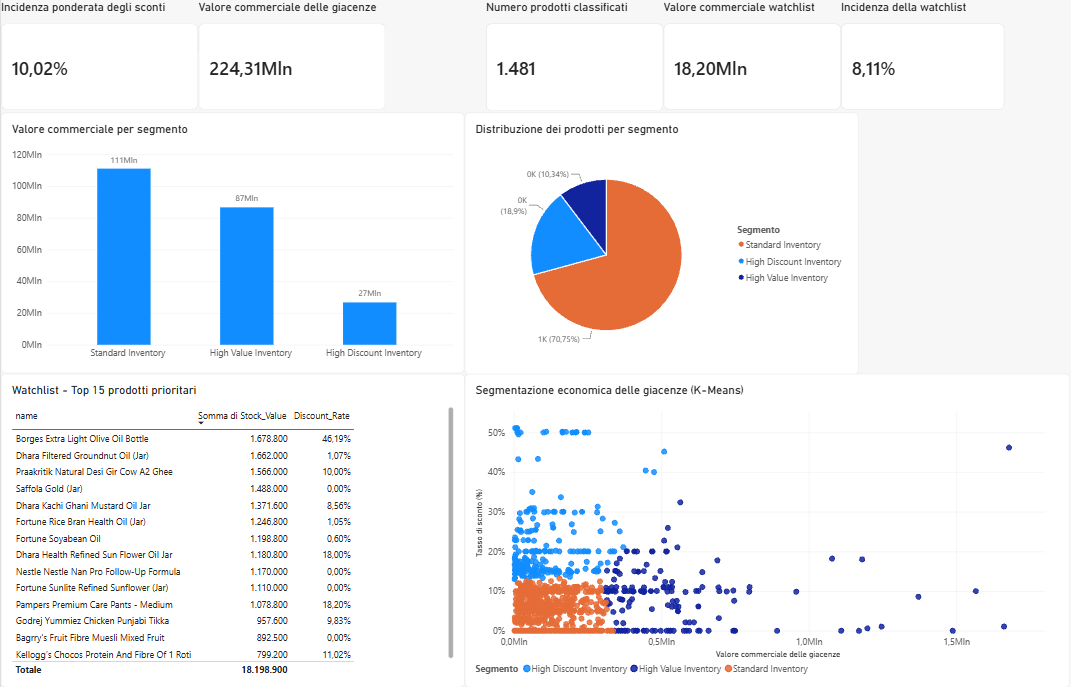

This screenshot's page, from the dashboard's own definition file:
{"tool":"powerbi","page":{"name":"Pagina 1","canvas":[1920,1080],"ordinal":0},"visuals":[{"type":"cardVisual","title":"Incidenza ponderata degli sconti","fields":{"Data":["zepto_con_cluster.Incidenza Sconti"]},"box":[0,0,309.6,172.4],"z":0},{"type":"cardVisual","title":"Valore commerciale delle giacenze","fields":{"Data":["zepto_con_cluster.Valore Giacenze"]},"box":[309.6,0,293.9,172.4],"z":1000},{"type":"columnChart","title":"Valore commerciale per segmento","fields":{"Category":["zepto_con_cluster.Segmento"],"Y":["zepto_con_cluster.Valore Giacenze"]},"box":[0,176.4,726.8,408.9],"z":2000},{"type":"tableEx","title":"Watchlist - Top 15 prodotti prioritari","fields":{"Values":["zepto_con_cluster.name","Sum(zepto_con_cluster.Stock_Value)","zepto_con_cluster.Discount_Rate"]},"box":[0,585.9,727,493.8],"z":3000},{"type":"pieChart","title":"Distribuzione dei prodotti per segmento","fields":{"Category":["zepto_con_cluster.Segmento"],"Y":["zepto_con_cluster.N prodotti"]},"box":[727,176.4,617.3,411.5],"z":4000},{"type":"scatterChart","title":"Segmentazione economica delle giacenze (K-Means)","fields":{"Category":["zepto_con_cluster.Chiave Prodotto"],"Series":["zepto_con_cluster.Segmento"],"X":["Avg(zepto_con_cluster.Stock_Value)"],"Y":["Avg(zepto_con_cluster.Discount_Rate)"]},"box":[727,585.9,948.4,493.8],"z":4001},{"type":"cardVisual","title":"Numero prodotti classificati","fields":{"Data":["zepto_con_cluster.Prodotti KPI"]},"box":[760.3,0,278.3,174.4],"z":4002},{"type":"cardVisual","title":"Valore commerciale watchlist","fields":{"Data":["zepto_con_cluster.Valore Watchlist"]},"box":[1038.6,0,278.3,172.4],"z":4003},{"type":"cardVisual","title":"Incidenza della watchlist","fields":{"Data":["zepto_con_cluster.Incidenza Watchlist"]},"box":[1316.8,0,256.7,172.4],"z":4004}]}

Visuals, with their boxes on the page's 1920x1080 design canvas (x1, y1, x2, y2). These are canvas units, not pixel positions in the 1071x687 screenshot, which may show the page scaled, cropped or inside an application window:
"Incidenza ponderata degli sconti" cardVisual: bbox=[0, 0, 310, 172]
"Valore commerciale delle giacenze" cardVisual: bbox=[310, 0, 604, 172]
"Valore commerciale per segmento" columnChart: bbox=[0, 176, 727, 585]
"Watchlist - Top 15 prodotti prioritari" tableEx: bbox=[0, 586, 727, 1080]
"Distribuzione dei prodotti per segmento" pieChart: bbox=[727, 176, 1344, 588]
"Segmentazione economica delle giacenze (K-Means)" scatterChart: bbox=[727, 586, 1675, 1080]
"Numero prodotti classificati" cardVisual: bbox=[760, 0, 1039, 174]
"Valore commerciale watchlist" cardVisual: bbox=[1039, 0, 1317, 172]
"Incidenza della watchlist" cardVisual: bbox=[1317, 0, 1574, 172]
